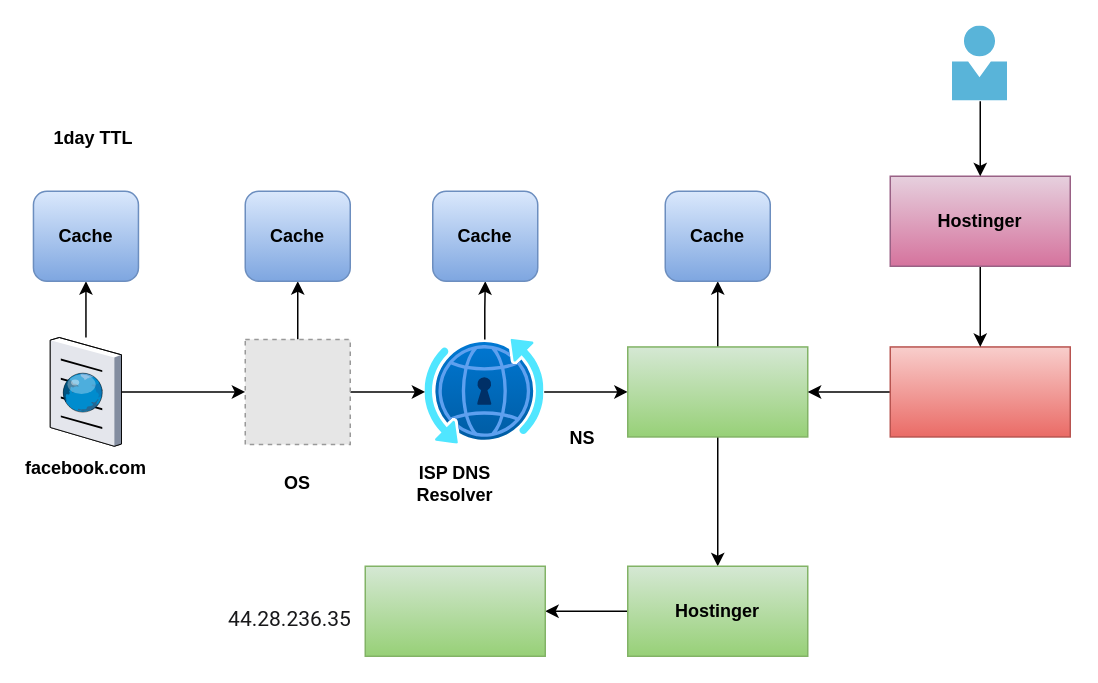
Some shapes in this 1098 by 683 pixel diagram are drawn without their labels. Grey dashed boxes stand in for pictures. The centre of each missing label's shape, as x and y in pixels:
"IP address" goes at point (454, 610).
"Root Servers" goes at point (717, 391).
"TLD" goes at point (979, 391).
